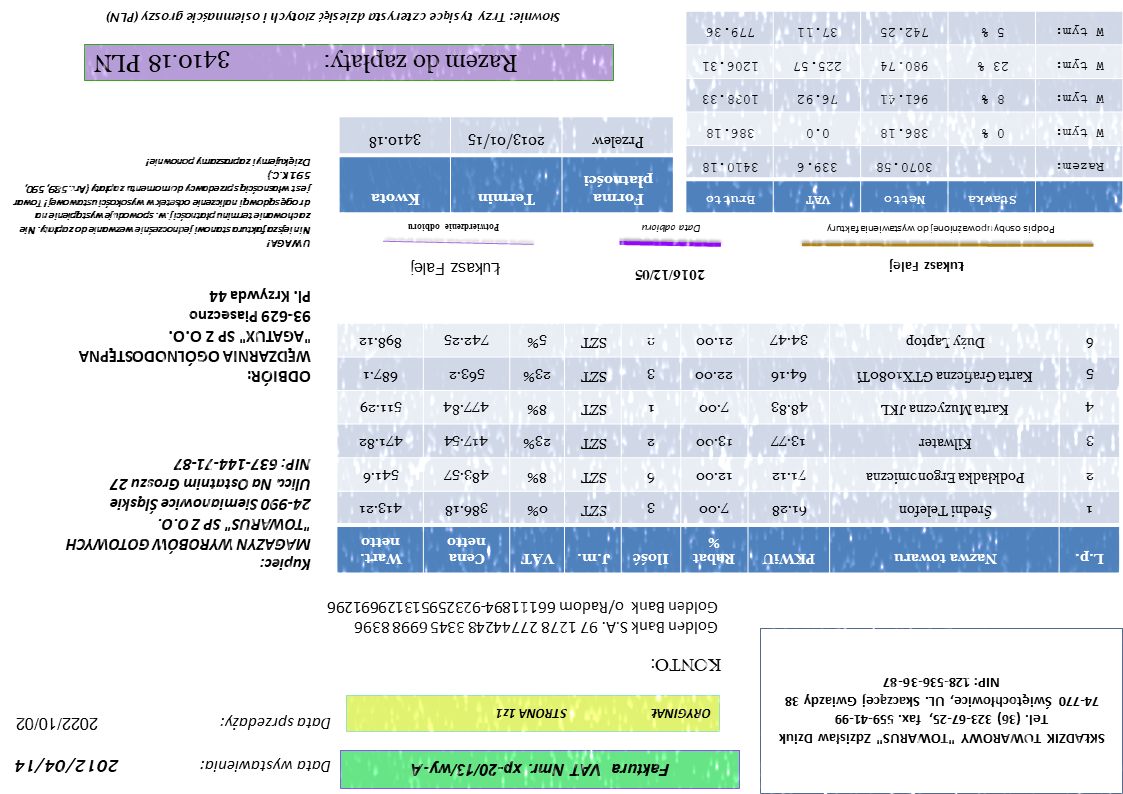Table: (336, 322, 1121, 574), (686, 12, 1122, 212), (337, 116, 675, 215)
TextBox: (63, 457, 313, 574), (11, 156, 313, 250), (775, 674, 1107, 748), (78, 287, 312, 388), (323, 599, 720, 637), (92, 50, 519, 75), (102, 10, 562, 26), (409, 758, 674, 781), (825, 221, 1058, 237), (494, 706, 714, 722), (198, 757, 332, 777), (217, 713, 332, 733), (13, 758, 122, 777), (410, 257, 503, 278), (13, 715, 100, 733), (634, 265, 708, 285), (887, 257, 967, 275), (650, 657, 722, 675), (407, 222, 501, 234), (640, 221, 703, 236)
